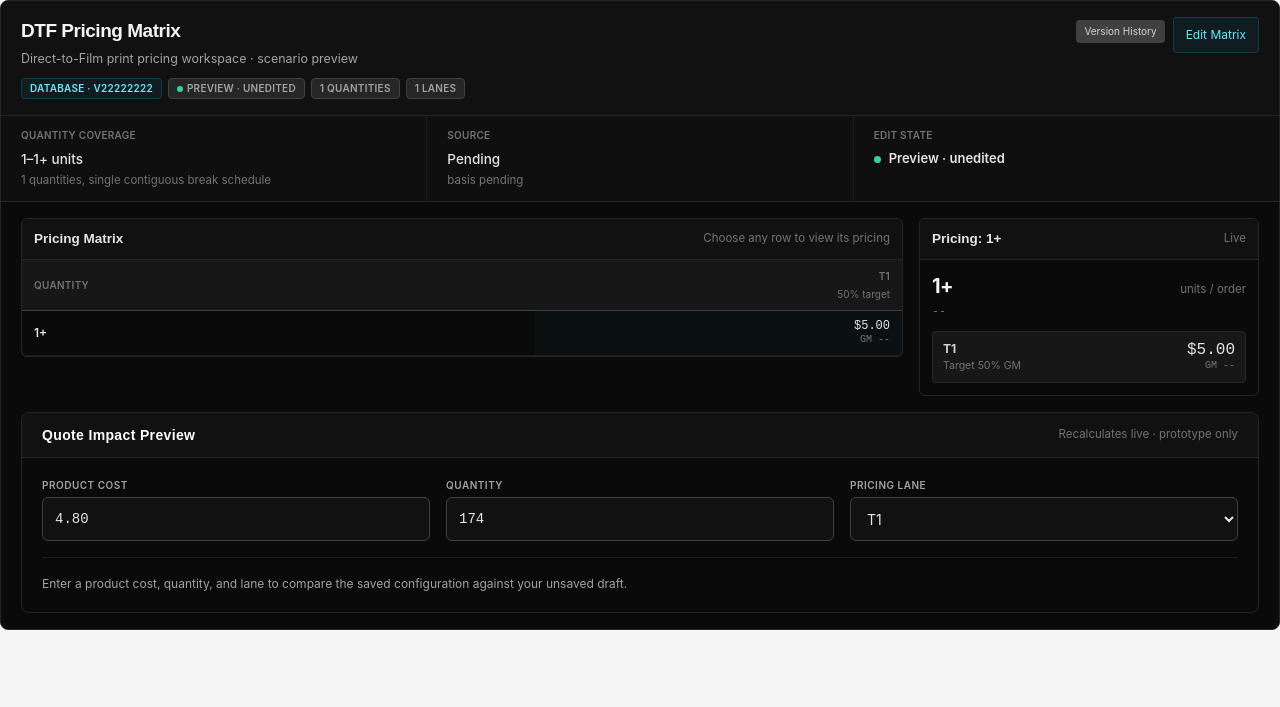
Test: pricing matrix editors › blocks entering edit mode for the entire deferred rollback lifecycle
The width and height of the screenshot is (1280, 707).
Check: the heading "DTF Pricing Matrix" is shown, box [21, 20, 180, 41]
Click the button "Version History". click: (1121, 32)
box: [1076, 20, 1165, 43]
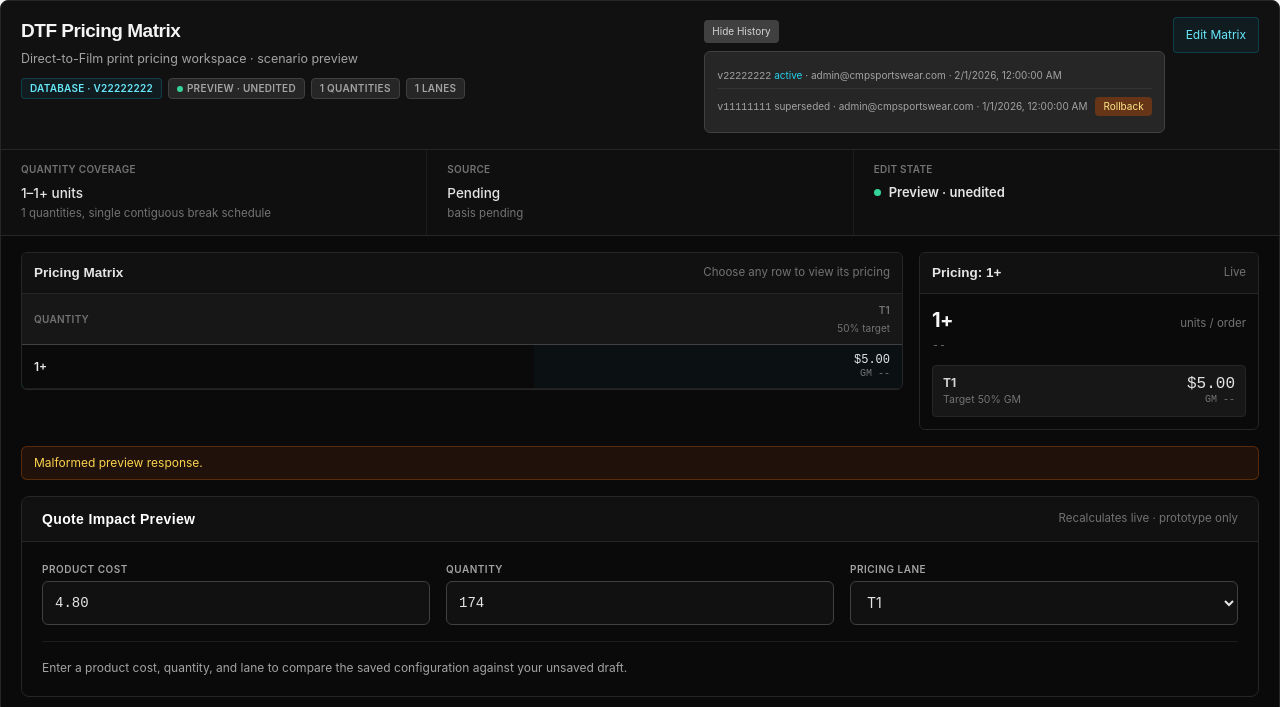
Check: the text "superseded" is shown, box [774, 100, 830, 112]
Click the button with aria-label "Roll back to version 11111111". click: (1124, 106)
box: [1096, 97, 1152, 116]
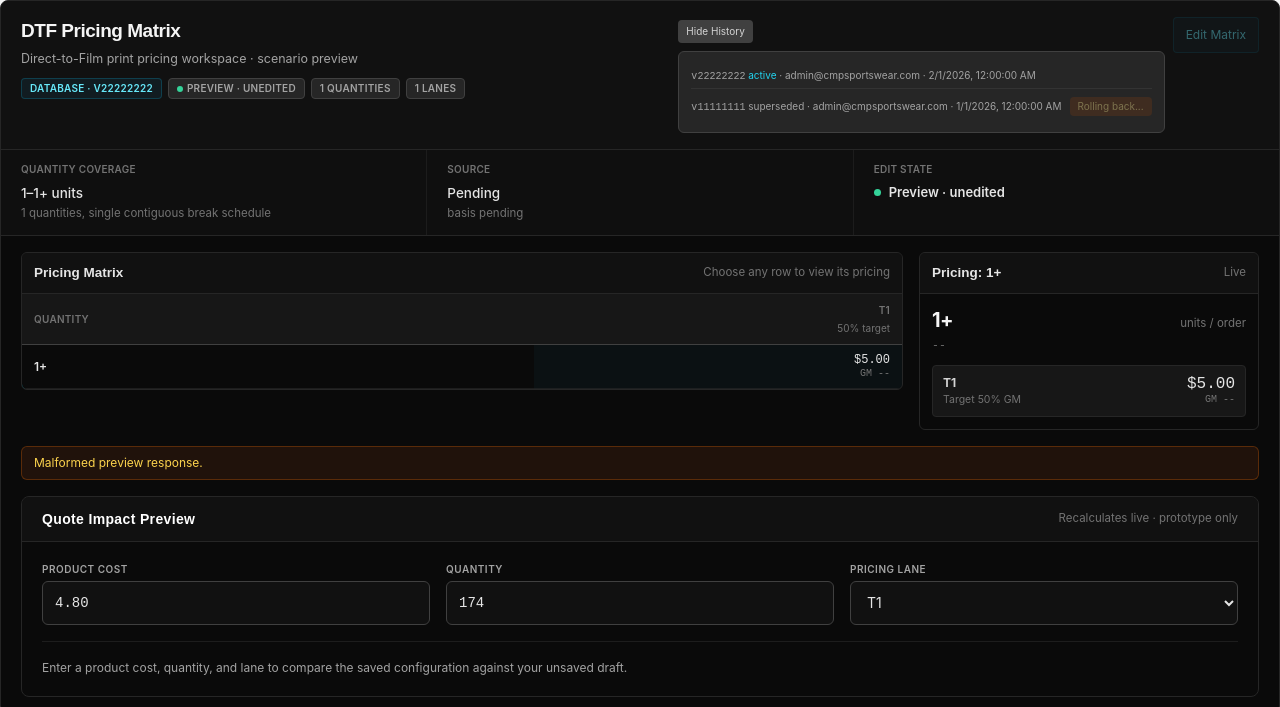
Check: the button "Edit Matrix" is disabled
Click the button "Edit Matrix". click: (1216, 35)
box: [1173, 17, 1259, 53]
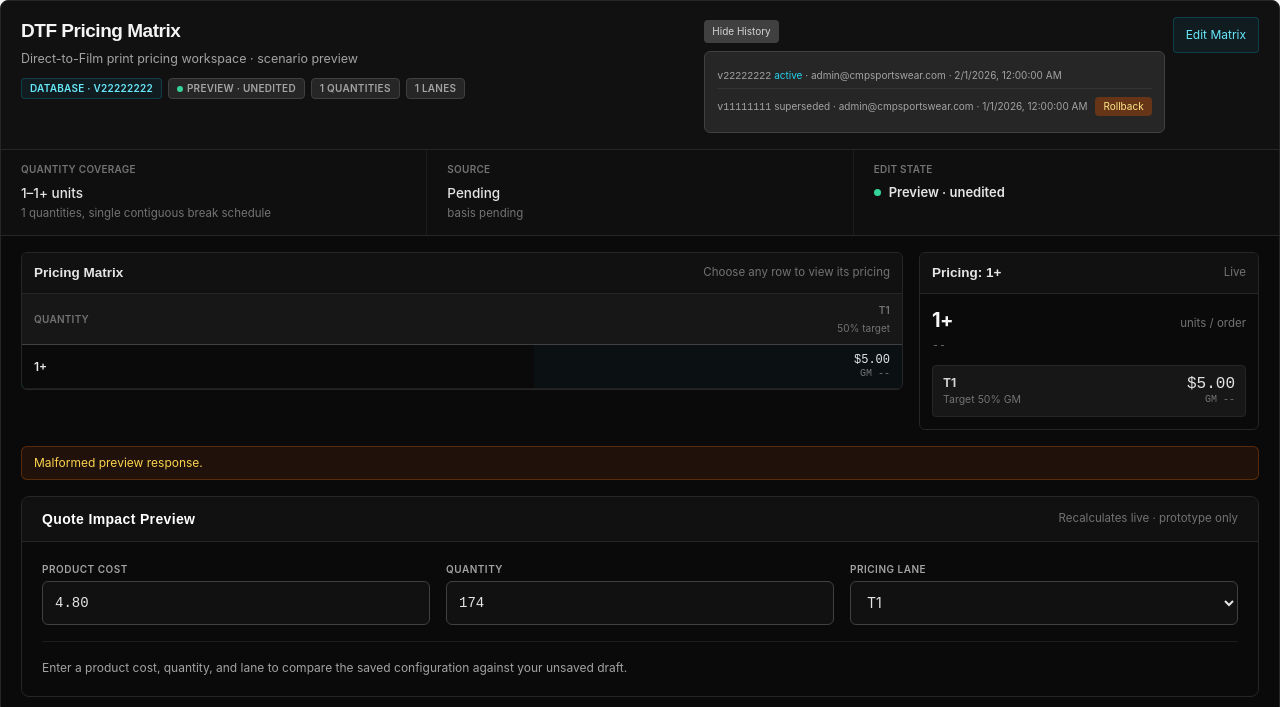
Check: the button "Cancel" is not shown
Check: the button "Edit Matrix" is enabled
Click the button "Edit Matrix". click: (1216, 35)
box: [1173, 17, 1259, 53]
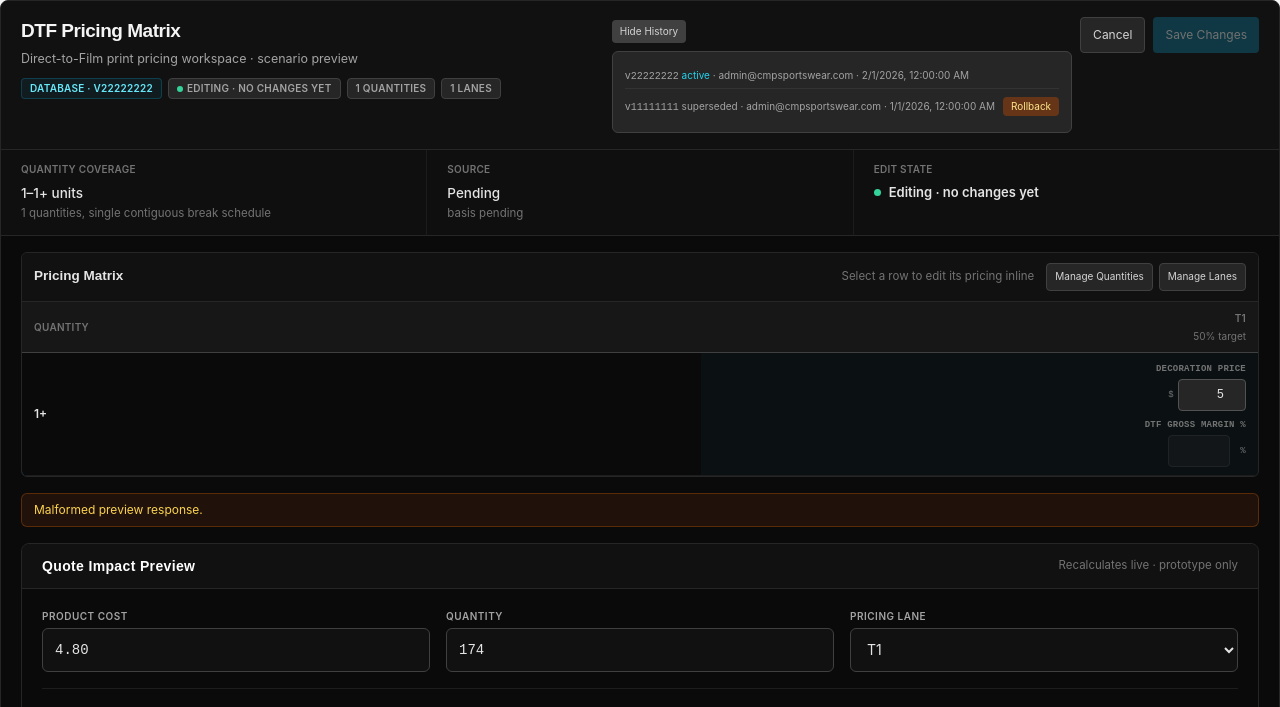
Check: the number field named "Tier 1+ T1 price" holds "5", box [1178, 378, 1246, 410]
Check: the button "Save Changes" is disabled, box [1154, 17, 1259, 53]
